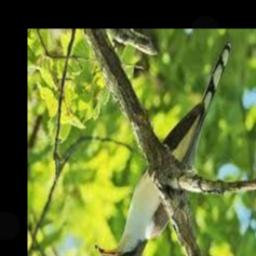Cuckoo: (98, 44, 230, 256)
